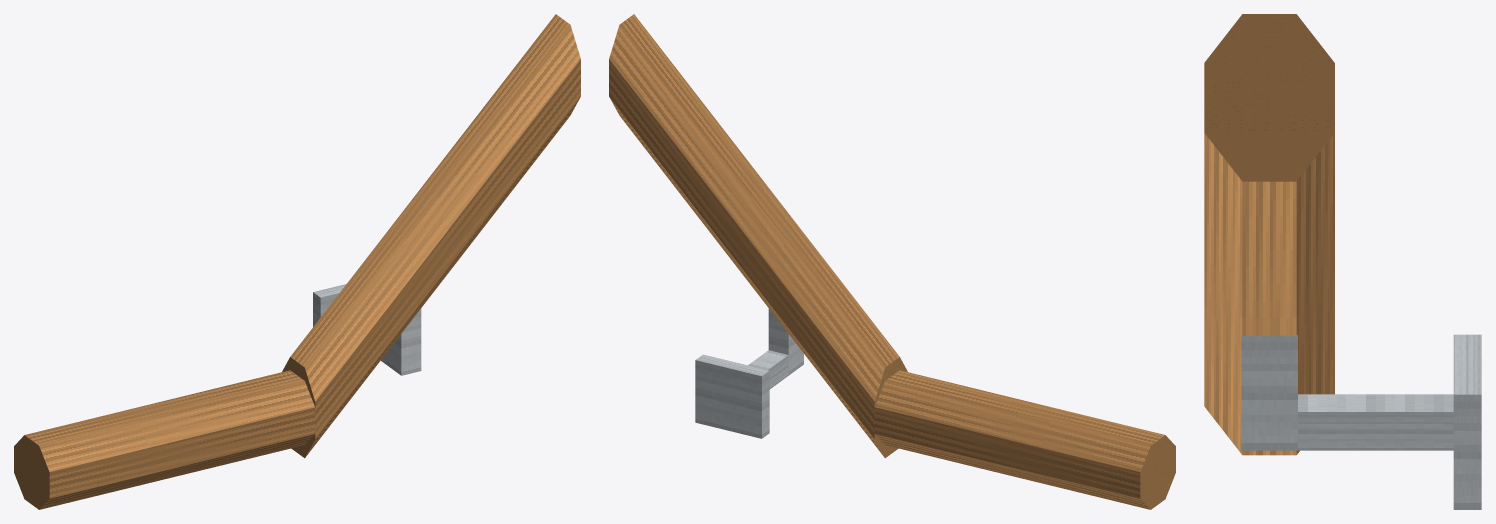
File: foot_pos.obj
3 renders of one model, left to right at view 1: azimuth 30°, elevation 25°; view 2: azimuth 150°, elevation 25°; view 3: azimuth 270°, elevation 25°, orthographic. The views are drawn at different scales.
Visible parts, largest first — view 1: handrail_wall_oak_round_foot_pos; view 2: handrail_wall_oak_round_foot_pos; view 3: handrail_wall_oak_round_foot_pos.
Part boxes in pixels (bbox=[...]): handrail_wall_oak_round_foot_pos: bbox=[14, 14, 580, 509]; handrail_wall_oak_round_foot_pos: bbox=[609, 14, 1175, 509]; handrail_wall_oak_round_foot_pos: bbox=[1204, 14, 1481, 509].
Bounding box in the file's own units: 1 × 0.6633 × 0.2452.
